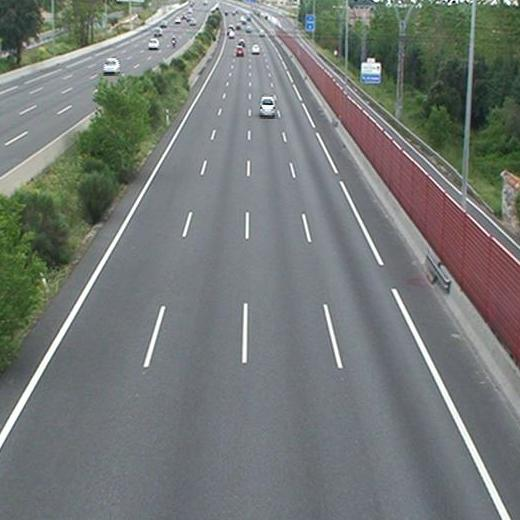car: (259, 96, 276, 115), (251, 44, 261, 55), (235, 46, 242, 56), (237, 38, 244, 45)
